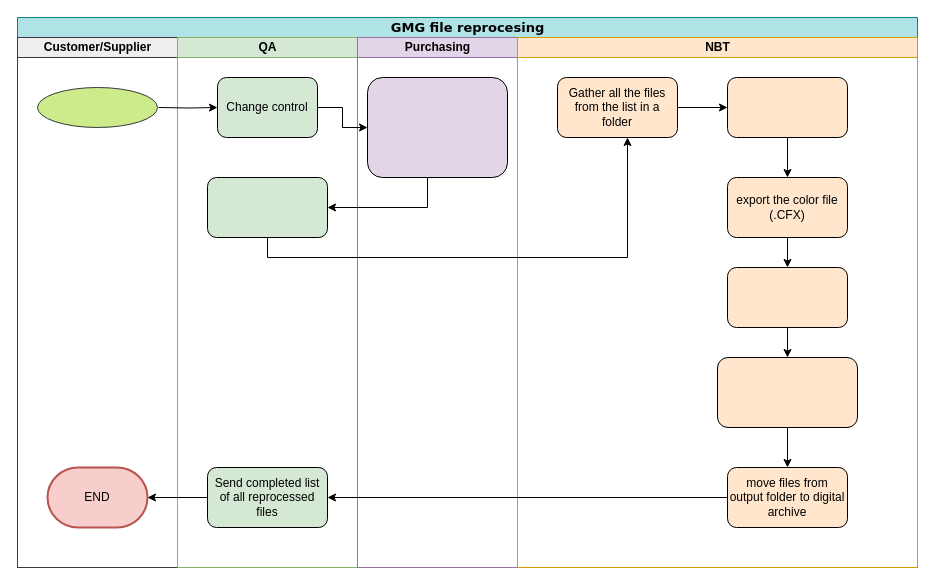
Some shapes in this 935 by 585 pixel diagram are drawn without their labels. The centre of each missing label's shape, as x and y in pixels:
"Create new color hotfolder in GMG" goes at pixel 787 107.
"Generate list with Item/MSF" goes at pixel 267 207.
"Get information about material. face/adhesive/liner" goes at pixel 437 127.
"Install the colors into color management software" goes at pixel 787 297.
"Start" goes at pixel 97 107.
"upload and reprocess all the files from QA list" goes at pixel 787 392.
